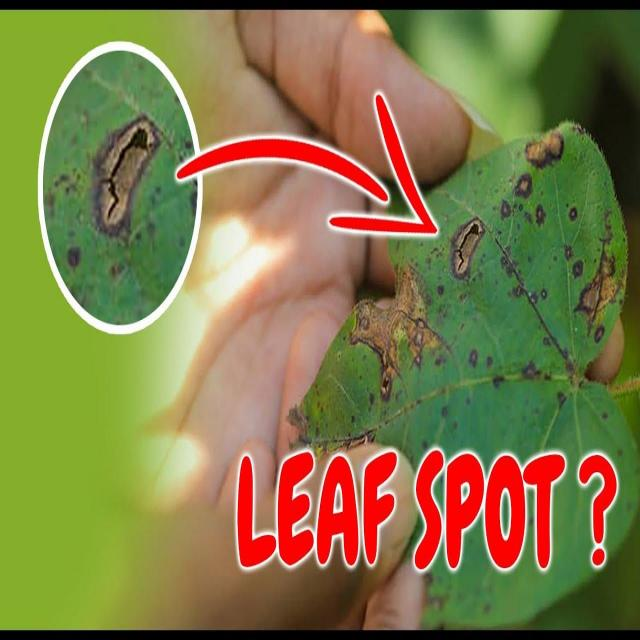blight: (352, 274, 438, 391)
